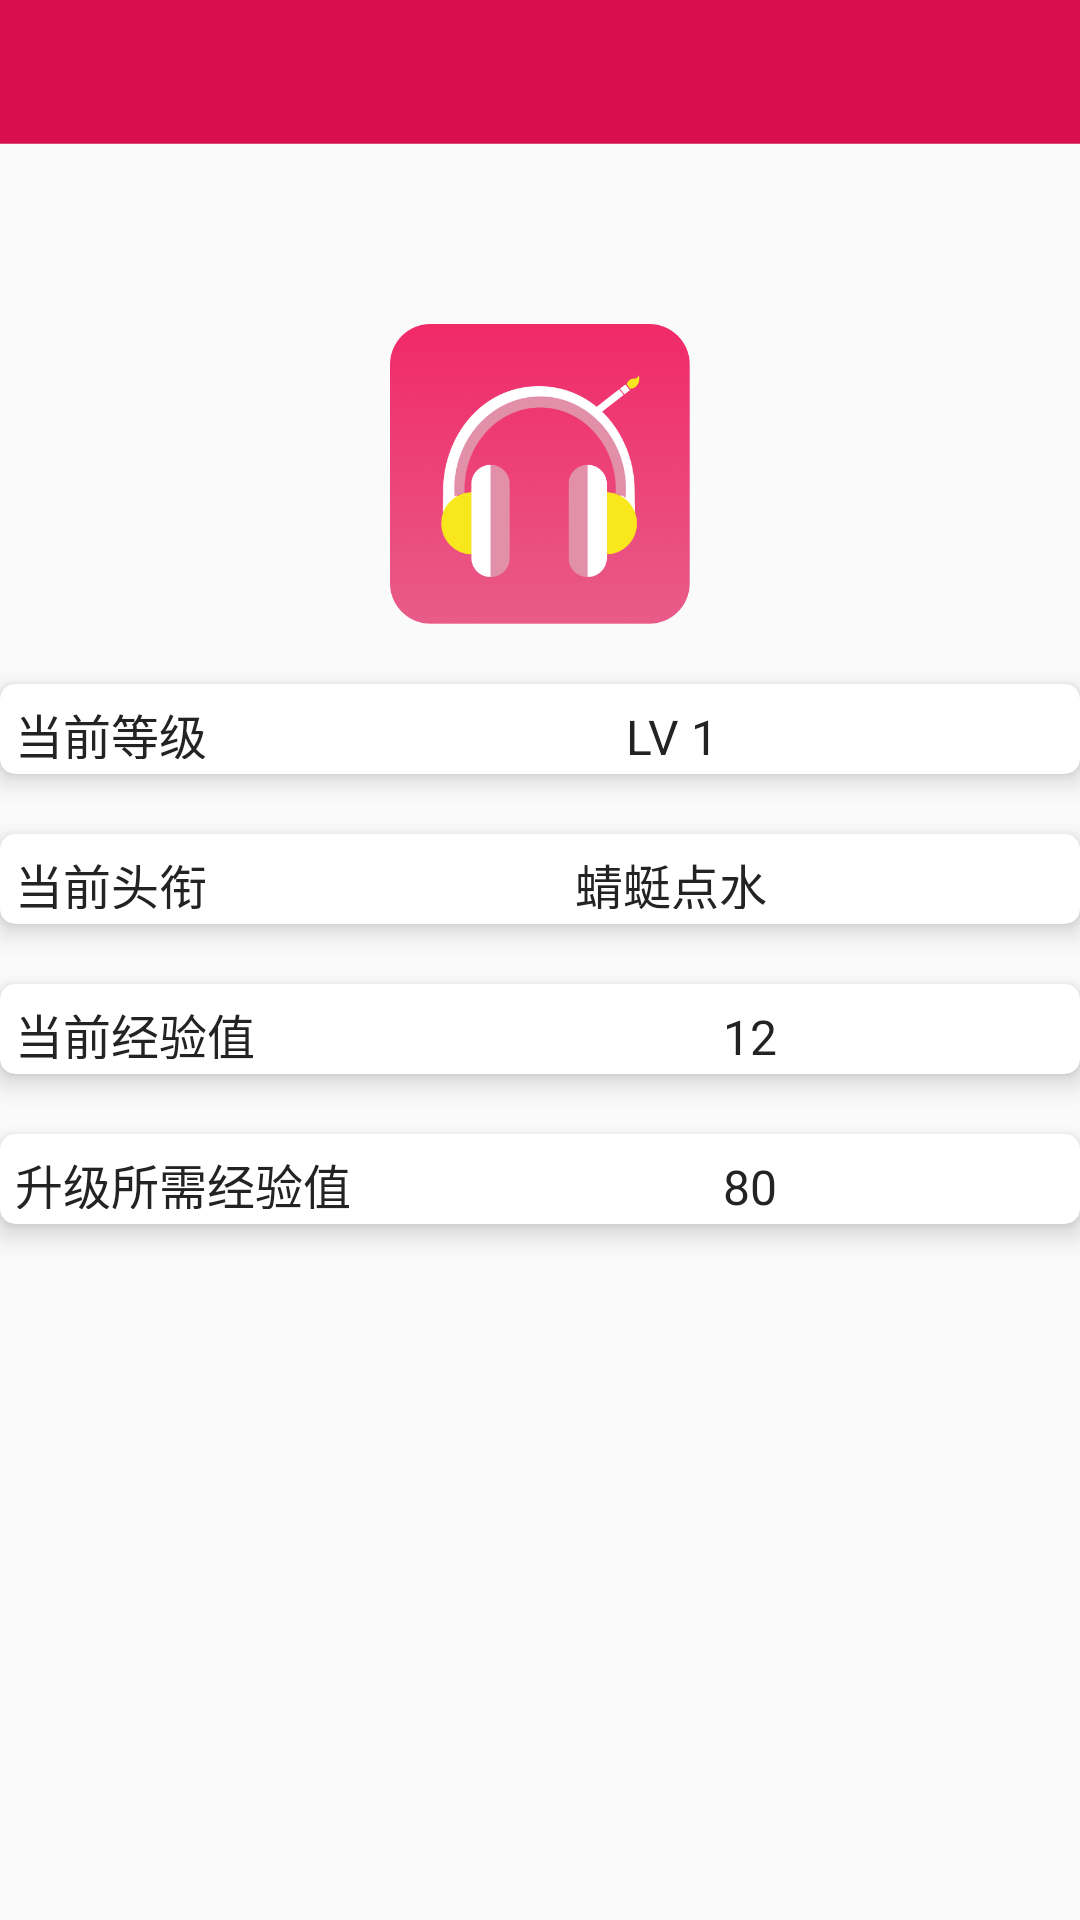

Icon bounding boxes for this 1080x1920 phone screenshot, format (x1, y1, x2, y2):
appicon: (390, 324, 690, 624)
